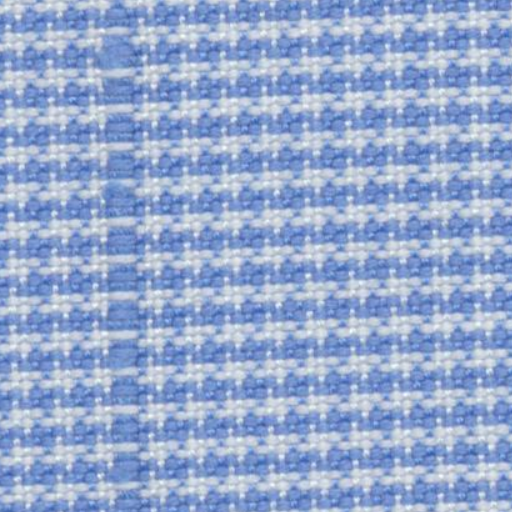TuoSha: (65, 15, 182, 494)
